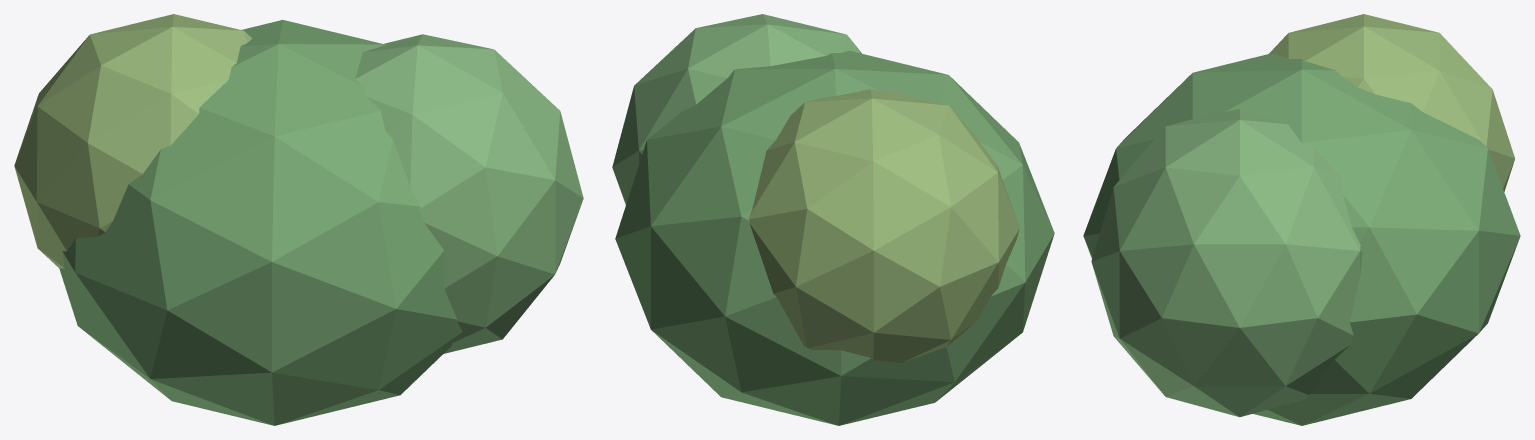
The model's file is shrub.glb.
The picture shows the model from 3 angles, left to right: view 1: azimuth 30°, elevation 25°; view 2: azimuth 150°, elevation 25°; view 3: azimuth 270°, elevation 25°; orthographic projection. The views are drawn at different scales.
Parts seen in each view (by area): view 1: shrub; view 2: shrub; view 3: shrub.
Part boxes in pixels (left/top/right/bottom): shrub: left=14, top=14, right=583, bottom=425; shrub: left=612, top=14, right=1054, bottom=425; shrub: left=1083, top=14, right=1520, bottom=425.
Bounding box in the file's own units: 1.83 × 1.4 × 1.62.
